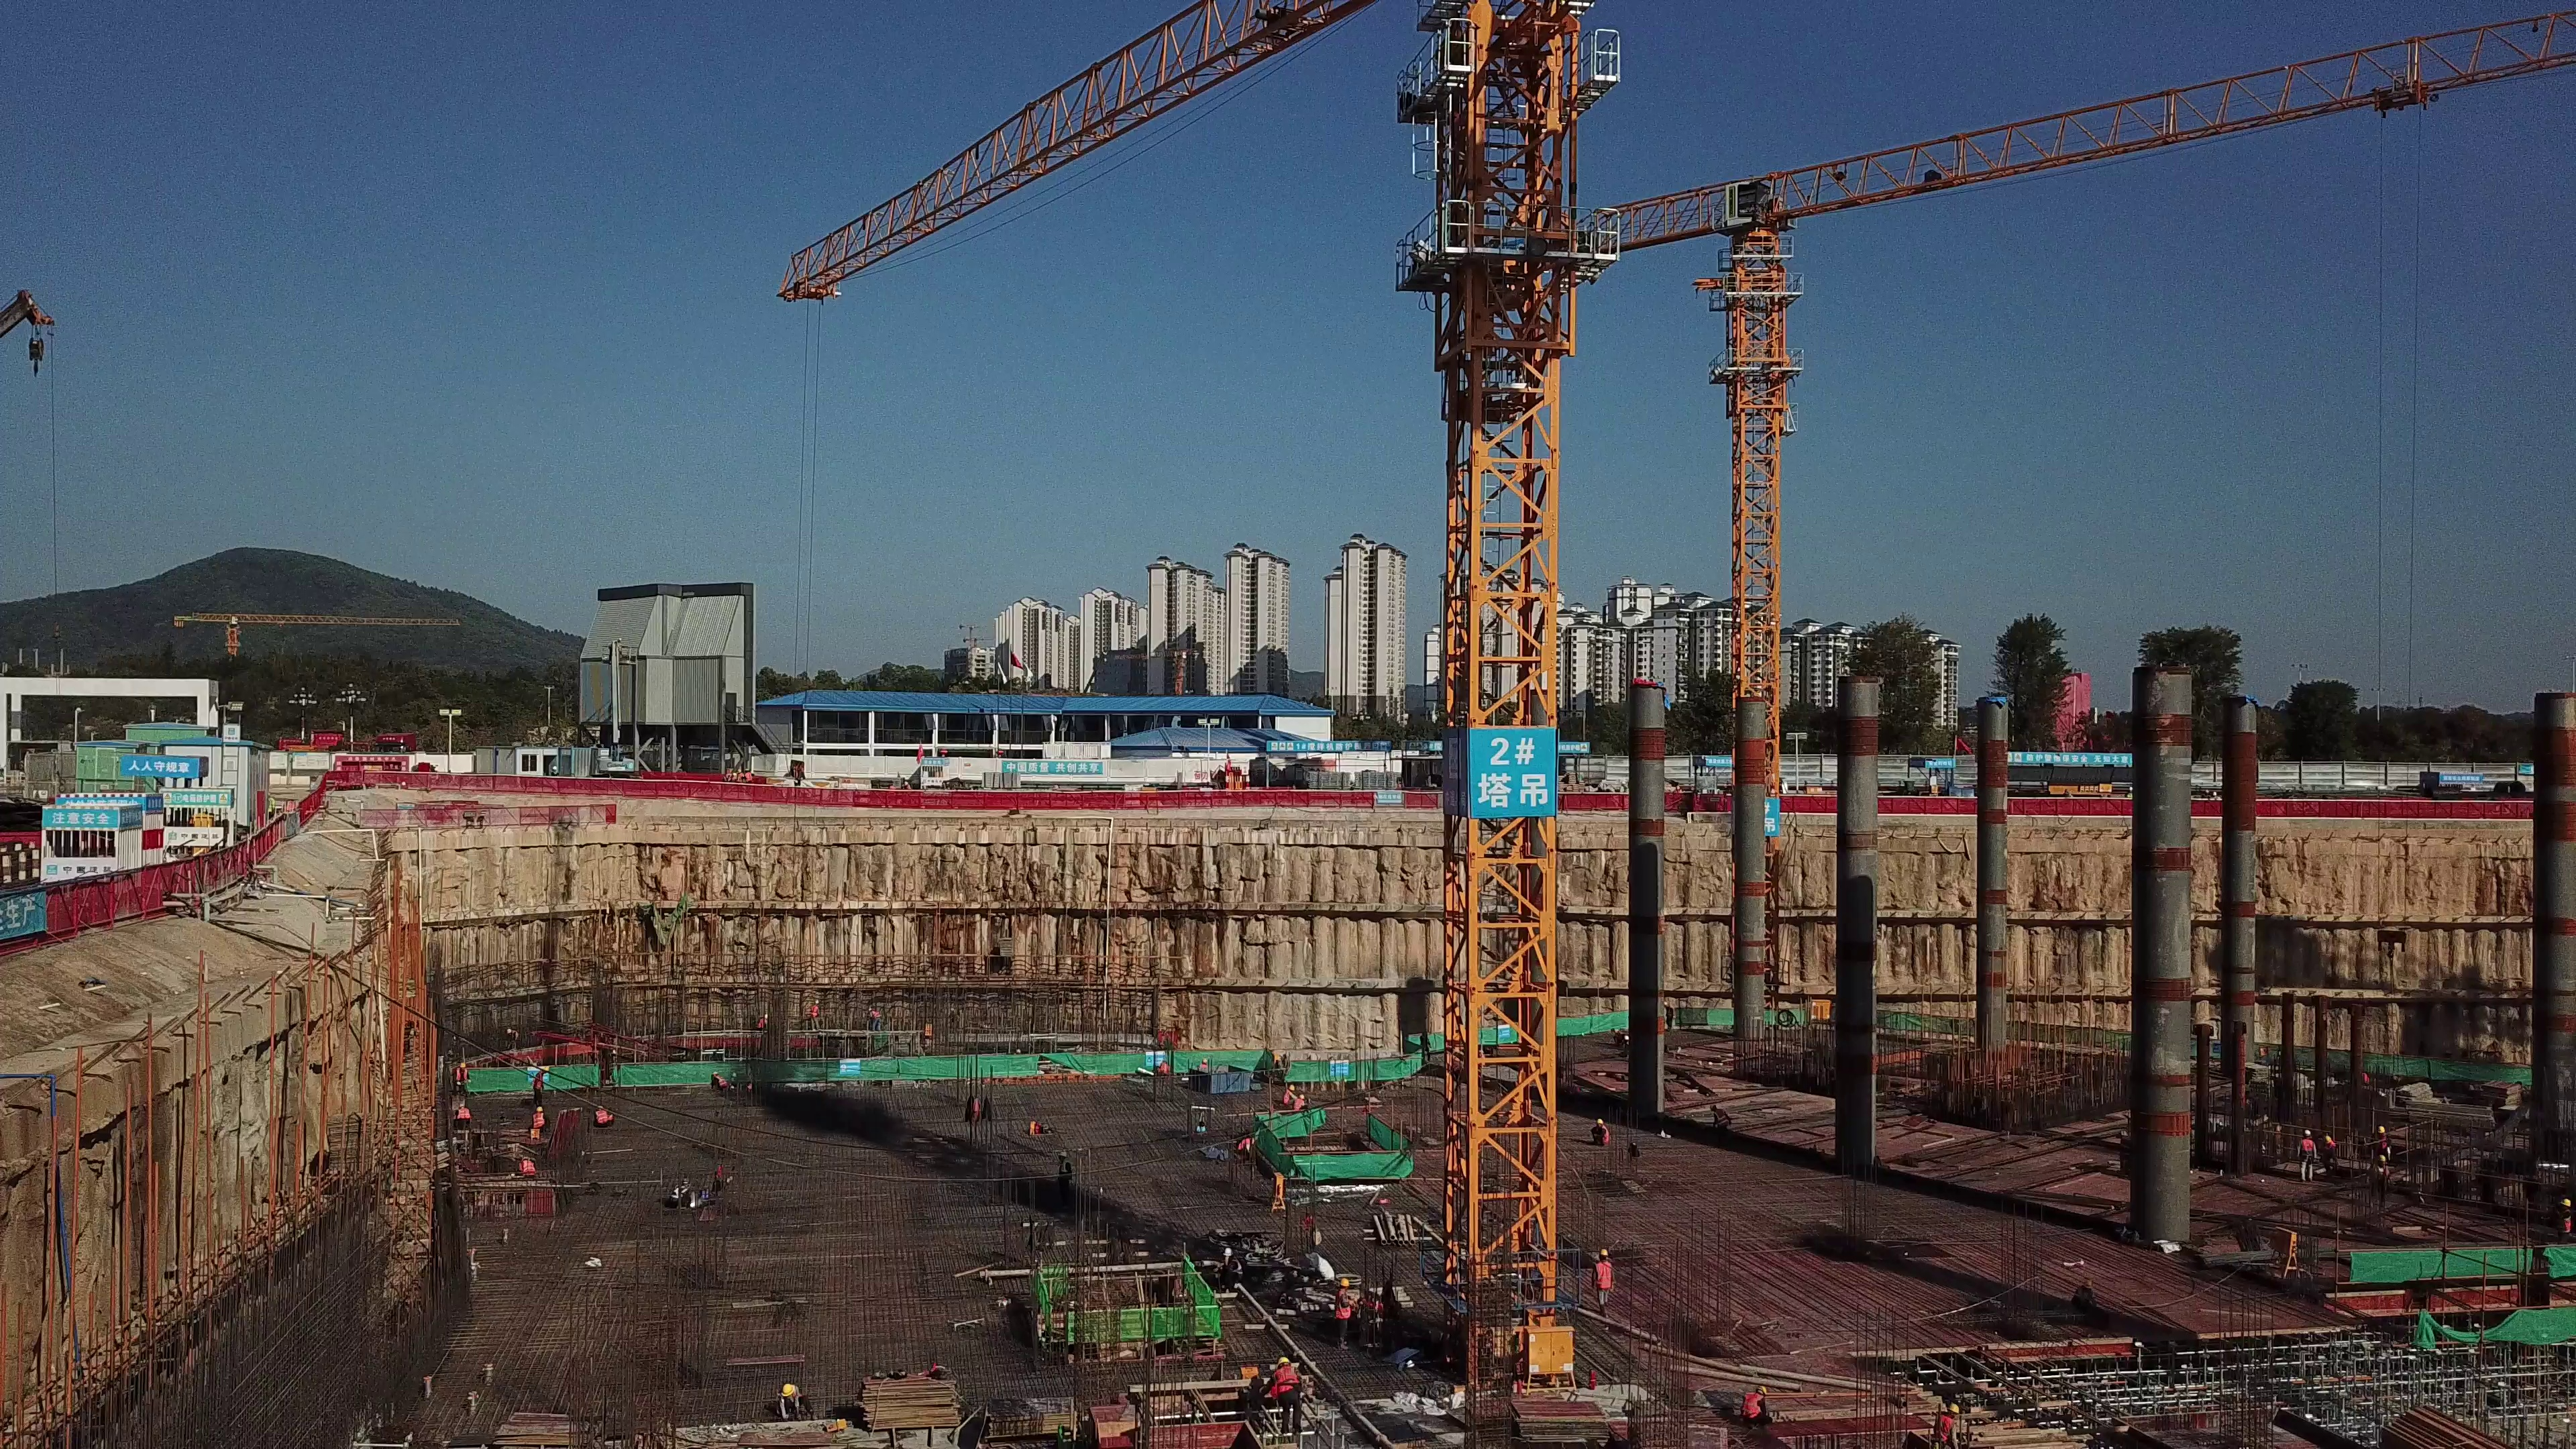helmet: (779, 1383, 799, 1397), (1946, 1401, 1961, 1415), (1275, 1356, 1292, 1367), (1597, 1246, 1611, 1257), (1338, 1277, 1350, 1288), (1756, 1385, 1769, 1395), (2560, 1197, 2572, 1206), (1595, 1116, 1604, 1125), (2378, 1124, 2385, 1134), (2375, 1155, 2387, 1163), (2324, 1134, 2331, 1142), (535, 1106, 543, 1113), (2304, 1129, 2311, 1136)
person: (1260, 1352, 1307, 1434), (1924, 1398, 1976, 1449), (1735, 1383, 1786, 1432), (1593, 1246, 1625, 1317), (1333, 1271, 1361, 1350), (772, 1375, 810, 1422), (2371, 1152, 2392, 1204), (2298, 1124, 2317, 1180), (2375, 1116, 2398, 1152), (452, 1057, 476, 1093), (2322, 1131, 2343, 1172), (531, 1069, 553, 1106), (592, 1103, 621, 1128), (1590, 1116, 1614, 1148), (1281, 1077, 1302, 1107), (1235, 1135, 1260, 1159), (454, 1104, 476, 1131), (709, 1067, 728, 1097), (807, 1000, 824, 1027), (529, 1108, 551, 1130), (517, 1155, 538, 1175), (1294, 1085, 1311, 1108), (867, 1005, 885, 1027), (759, 1012, 774, 1028)
vest: (1265, 1366, 1301, 1395), (1741, 1389, 1764, 1421), (1595, 1258, 1614, 1289), (1935, 1416, 1954, 1443), (1337, 1290, 1353, 1318), (2557, 1207, 2573, 1232), (2298, 1138, 2316, 1159), (1713, 1108, 1729, 1125), (1601, 1124, 1613, 1145), (1235, 1138, 1253, 1151), (594, 1110, 614, 1124), (533, 1112, 546, 1127), (455, 1068, 470, 1083), (2375, 1134, 2390, 1148), (520, 1160, 535, 1173), (458, 1108, 472, 1120), (1281, 1091, 1293, 1106), (2323, 1140, 2336, 1156), (534, 1073, 544, 1089), (717, 1075, 728, 1089)
